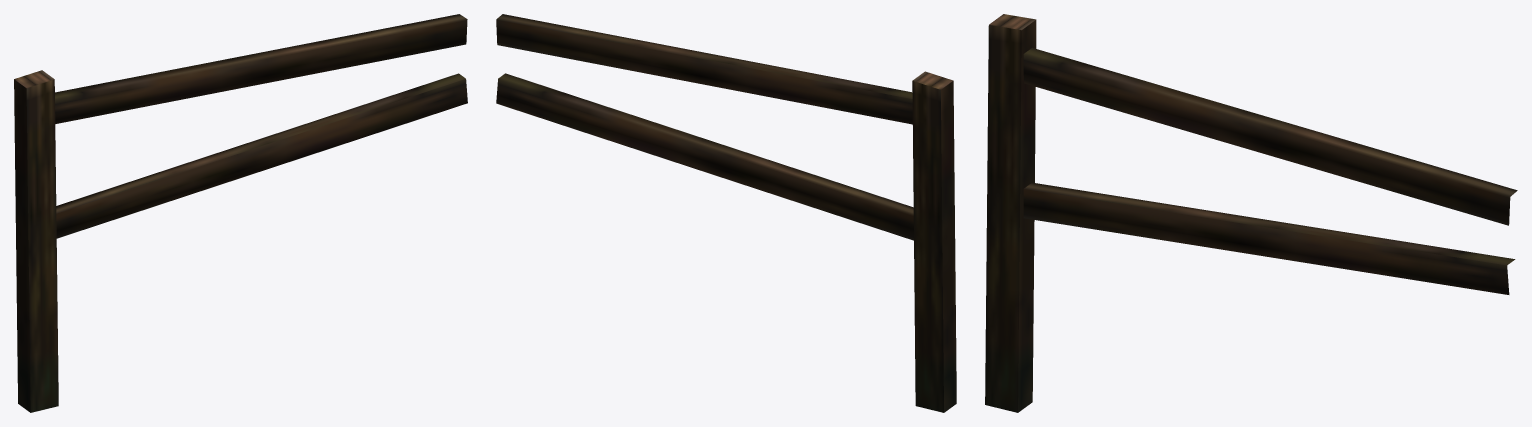
The model's file is general_obj_fence02_01.glb.
3 renders of one model, left to right at view 1: azimuth 30°, elevation 25°; view 2: azimuth 150°, elevation 25°; view 3: azimuth 330°, elevation 25°, orthographic. The views are drawn at different scales.
Visible parts, largest first — view 1: Sphere01; view 2: Sphere01; view 3: Sphere01.
Part boxes in pixels (bbox=[...]): Sphere01: bbox=[14, 14, 467, 412]; Sphere01: bbox=[496, 14, 956, 412]; Sphere01: bbox=[985, 14, 1517, 412].
Bounding box in the file's own units: 3.19 × 2.23 × 0.2022.
1 material, 1 textured.
